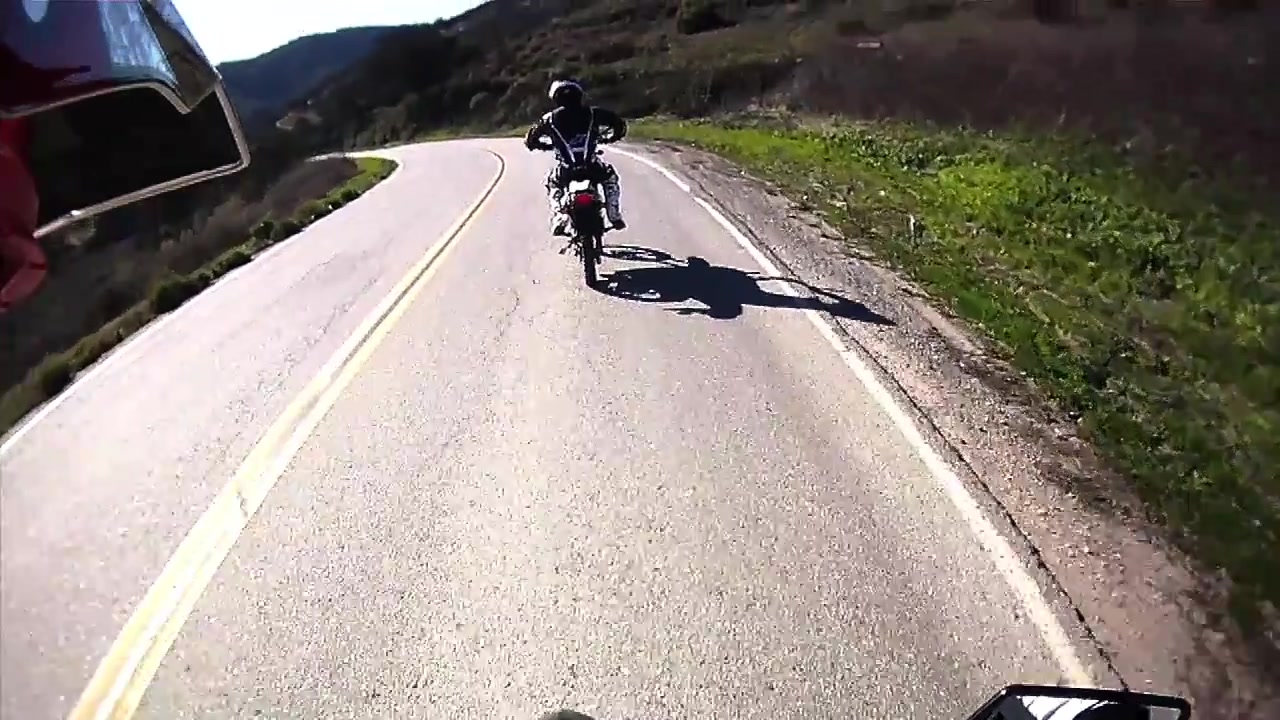motorbike: (536, 132, 622, 289)
